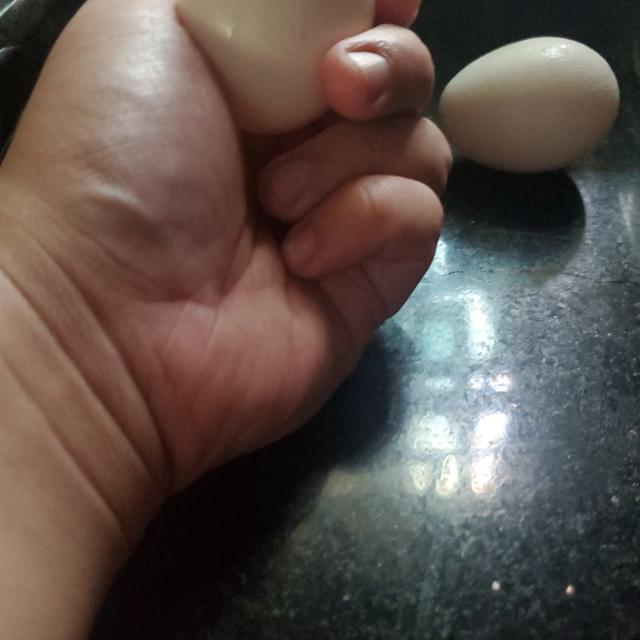egg: (174, 0, 376, 127), (445, 40, 623, 174)
